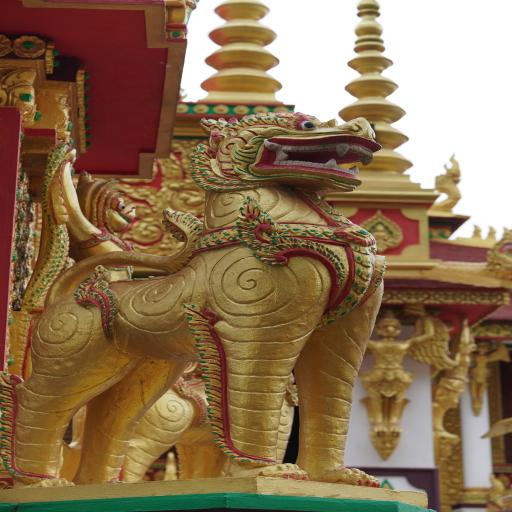ran: (423, 152, 479, 214), (482, 222, 512, 282)
than: (10, 78, 419, 502), (365, 297, 440, 476), (410, 304, 484, 452), (464, 325, 509, 409)
